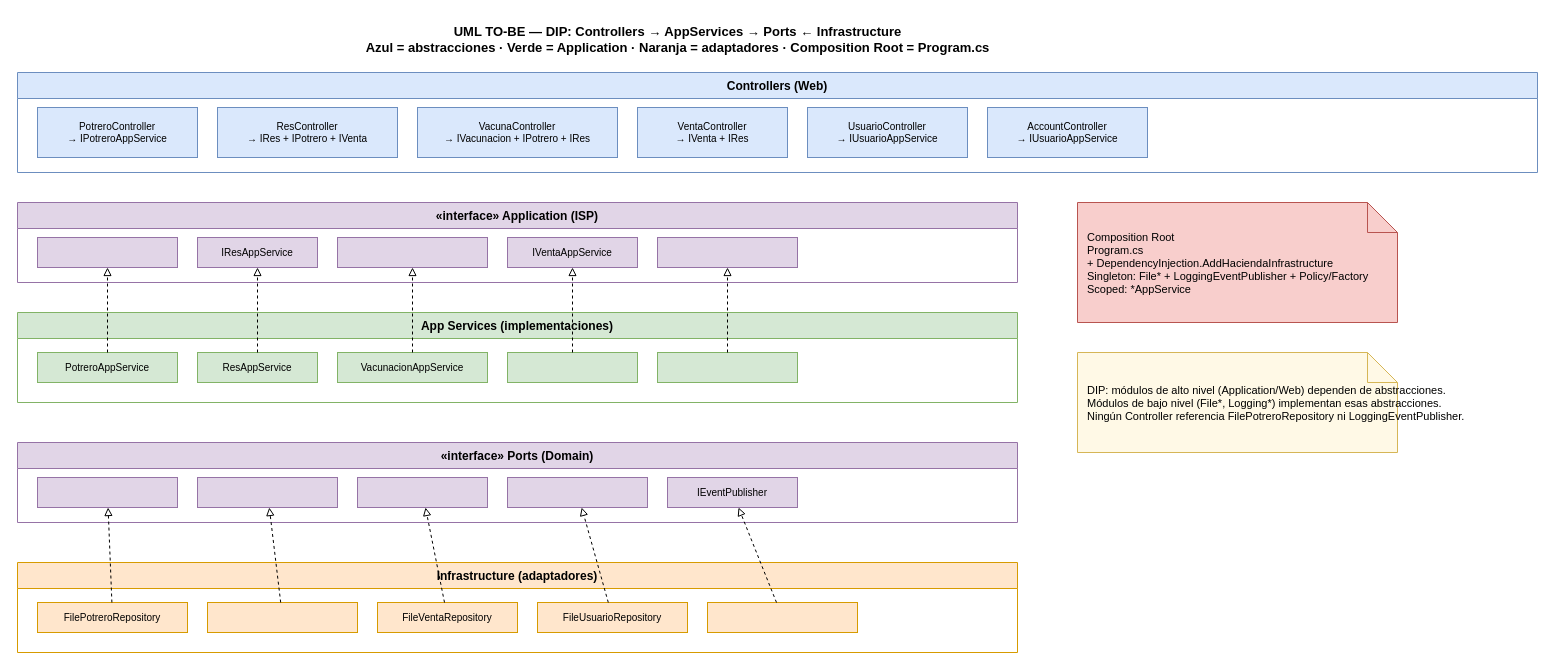
Some shapes in this 1555 by 670 pixel diagram are drawn without their labels. Here are the shapes that lost their labels. From the top down, the centre of each, then its label:
At point 107,252: "IPotreroAppService".
At point 412,252: "IVacunacionAppService".
At point 727,252: "IUsuarioAppService".
At point 572,367: "VentaAppService".
At point 727,367: "UsuarioAppService".
At point 107,492: "IPotreroRepository".
At point 267,492: "IVacunaRepository".
At point 422,492: "IVentaRepository".
At point 577,492: "IUsuarioRepository".
At point 282,617: "FileVacunaRepository".
At point 782,617: "LoggingEventPublisher".
